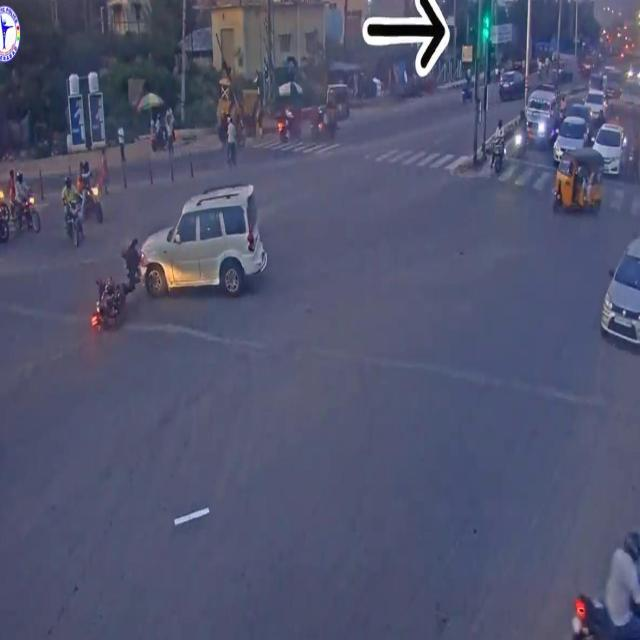accident: (89, 172, 279, 352)
non_accident: (492, 90, 640, 226), (62, 151, 106, 251), (0, 159, 43, 261)
